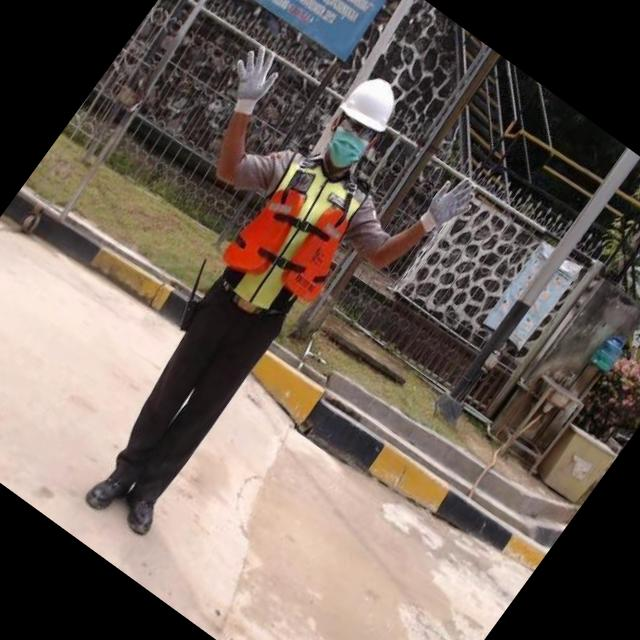hard_hat: (333, 65, 410, 142)
safety_vest: (200, 144, 385, 342)
vehicle: (0, 0, 521, 611)
work_boots: (106, 476, 172, 544), (80, 461, 137, 522)
